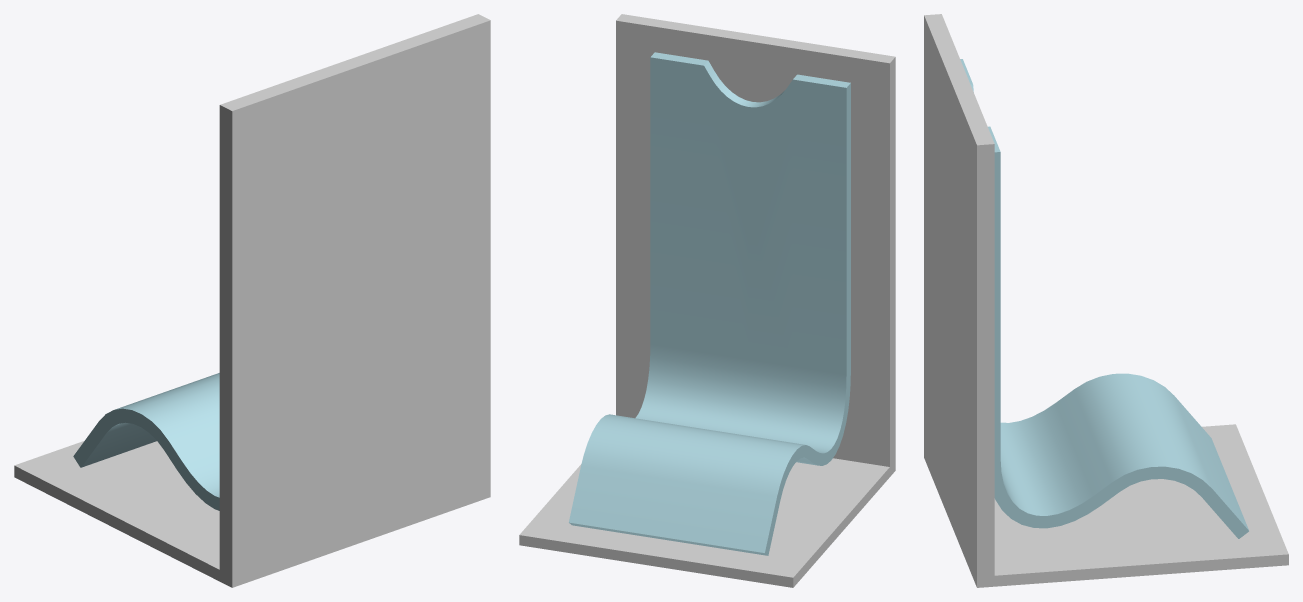
The model's file is watch stand.fbx.
3 views of the same model, side by side, from view 1: azimuth 30°, elevation 25°; view 2: azimuth 150°, elevation 25°; view 3: azimuth 270°, elevation 25° (orthographic). The views are drawn at different scales.
Visible parts, largest first — view 1: Cube.007; view 2: Cube.007; view 3: Cube.007.
Part boxes in pixels (x1=…): Cube.007: x1=14, y1=14, x2=490, y2=587; Cube.007: x1=519, y1=14, x2=895, y2=587; Cube.007: x1=924, y1=14, x2=1288, y2=587.
Size of the model in its own units: 14.86 by 20.08 by 14.99.
